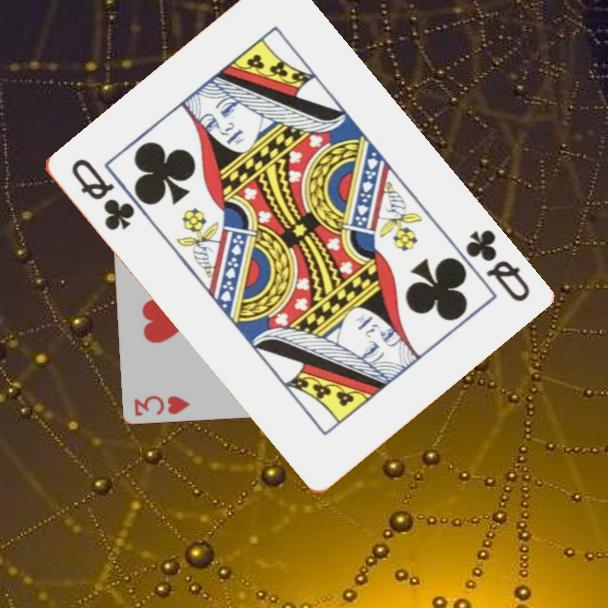c12: (461, 225, 533, 305), (66, 154, 137, 234)
h03: (131, 391, 194, 419)
